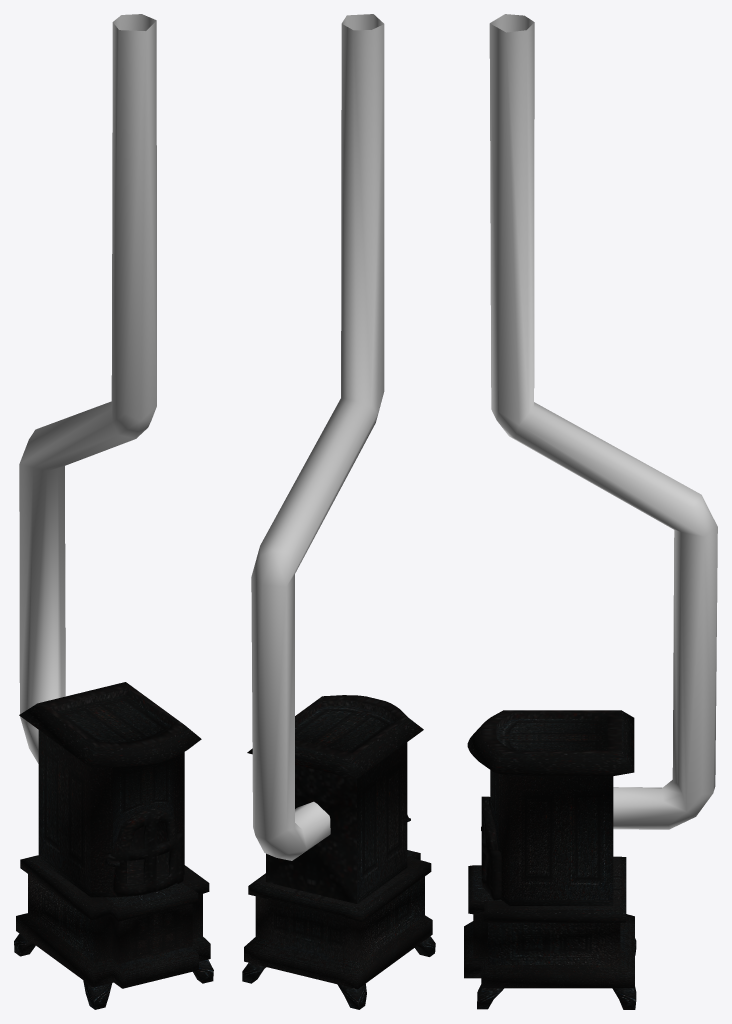
The model's file is Stove.fbx.
The picture shows the model from 3 angles, left to right: view 1: azimuth 30°, elevation 25°; view 2: azimuth 150°, elevation 25°; view 3: azimuth 270°, elevation 25°; orthographic projection. The views are drawn at different scales.
Visible parts, largest first — view 1: Stove_LOD0; view 2: Stove_LOD0; view 3: Stove_LOD0.
Part boxes in pixels (bbox=[...]): Stove_LOD0: bbox=[14, 14, 213, 1009]; Stove_LOD0: bbox=[242, 14, 435, 1009]; Stove_LOD0: bbox=[464, 14, 717, 1009].
Size of what is drawn, in the model's own units: 107 by 812 by 195.
